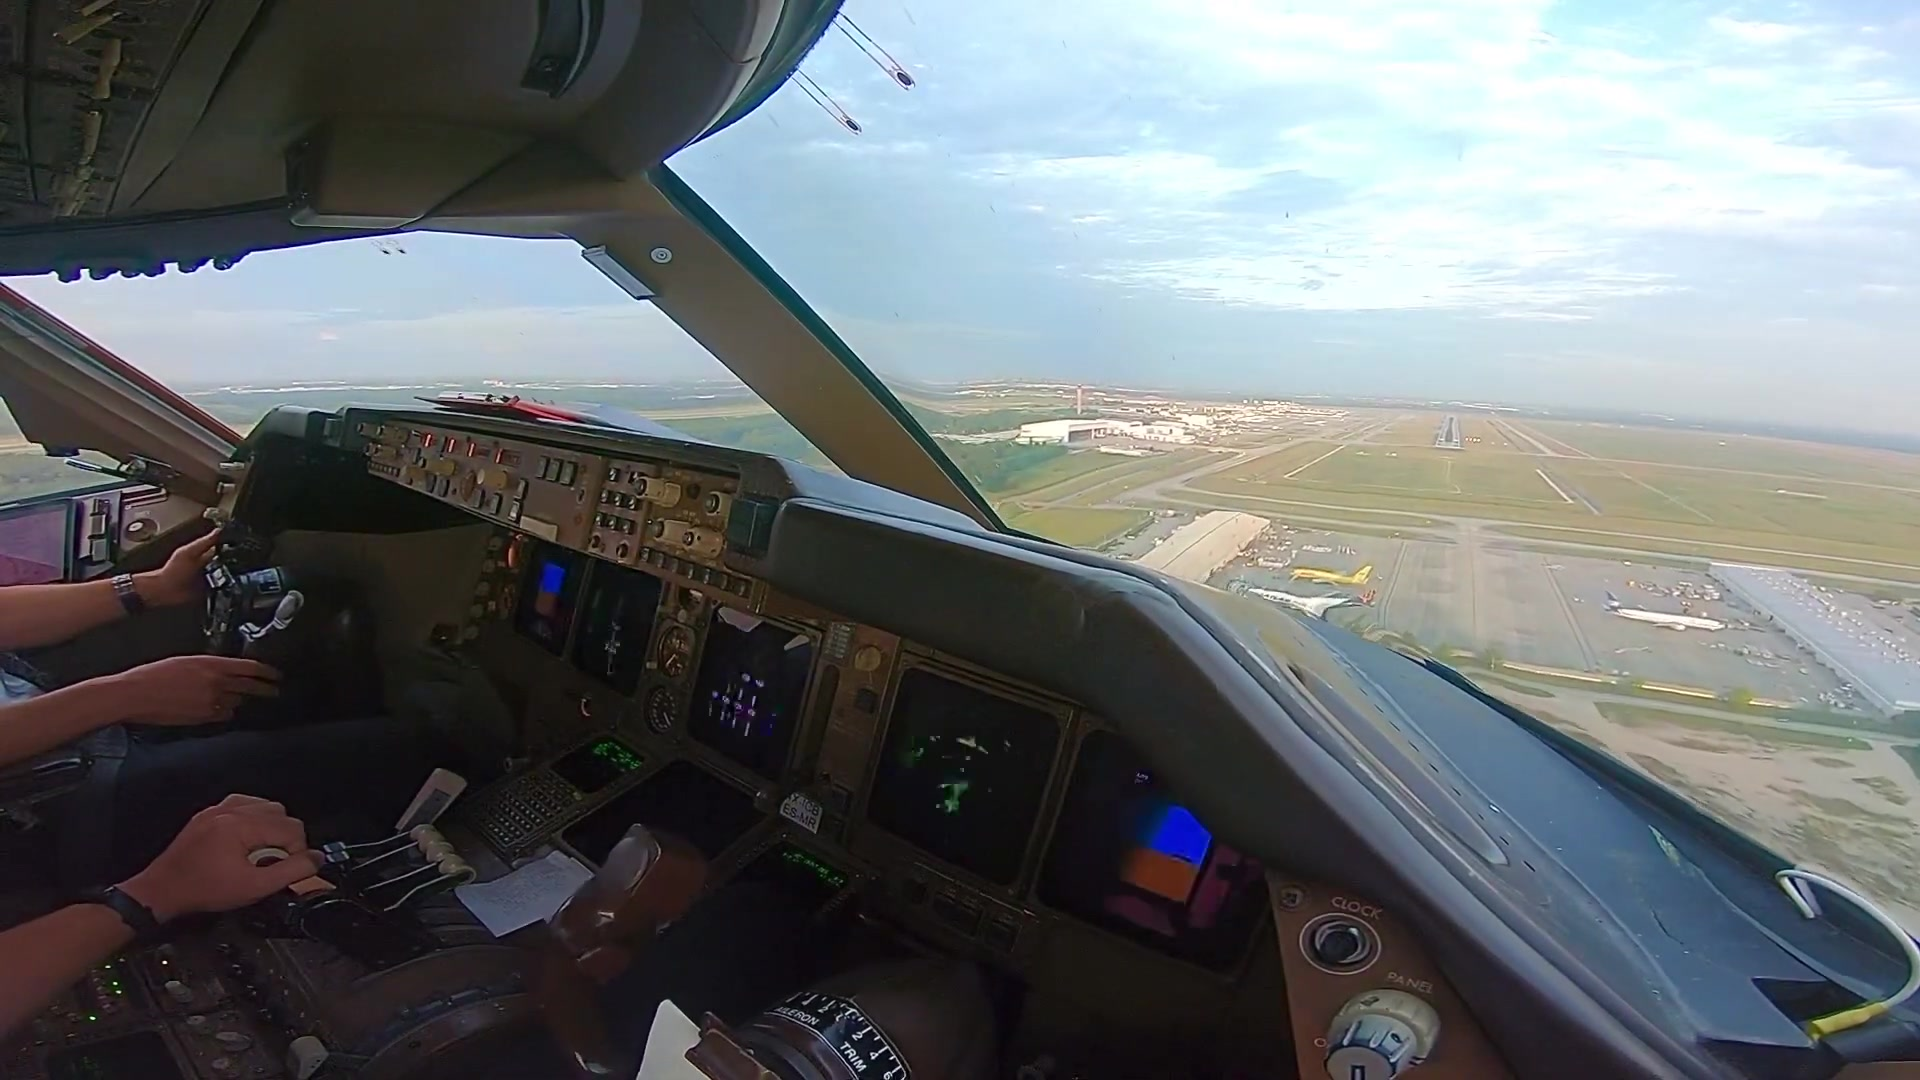runway: (1435, 413, 1462, 451)
